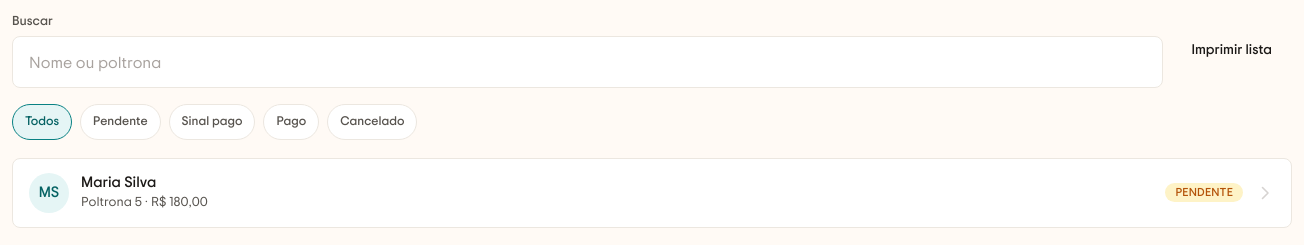
it: ReservasListaView › busca por nome ou poltrona após o debounce
Expected: the text "Maria Silva" is shown, left=81, top=175, right=156, bottom=190
Step 1. Type "joão" into the field labelled "Buscar" → (588, 62), box left=27, top=50, right=1148, bottom=74
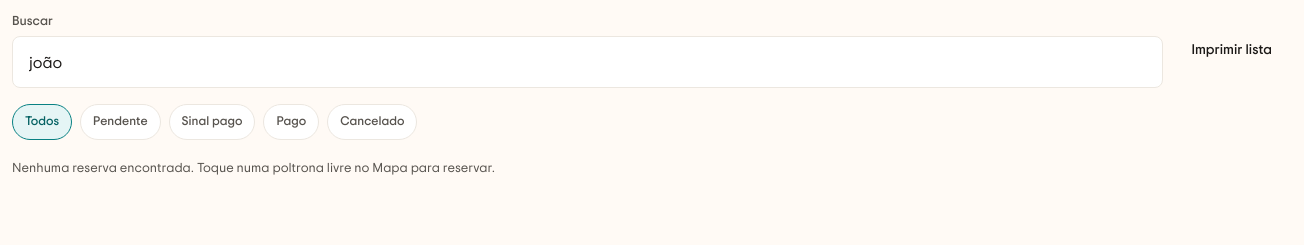
Expected: the text "Toque numa poltrona livre no Mapa" is shown, left=12, top=158, right=495, bottom=176
